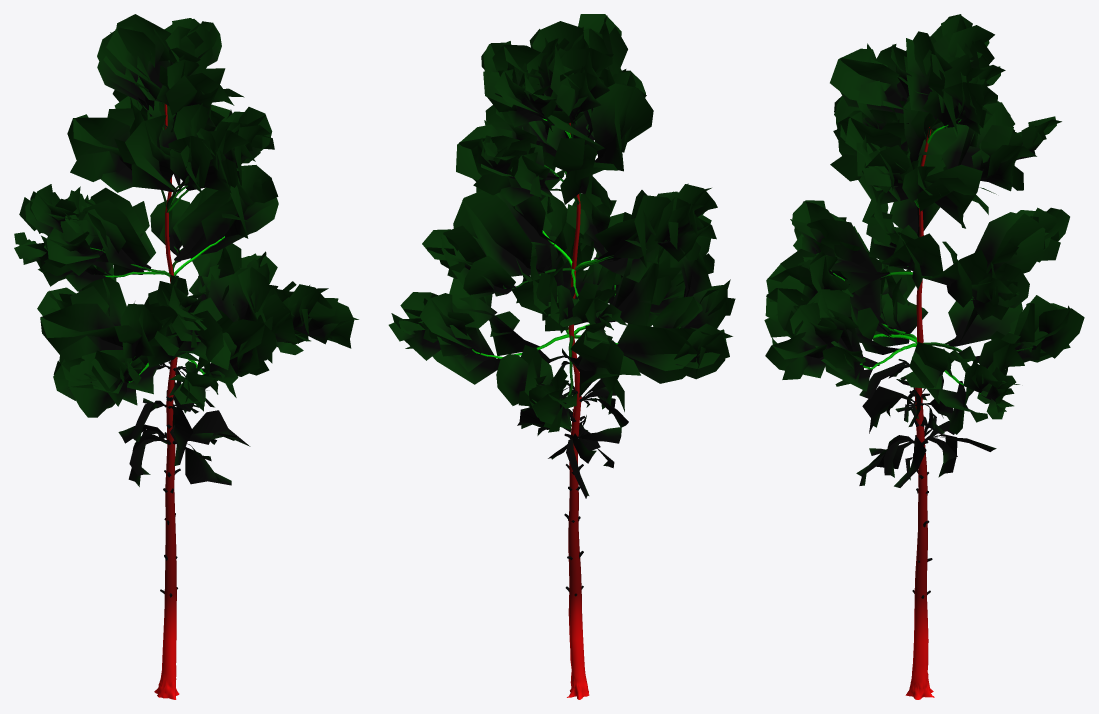
File: TTFE_Pine Mid 2.fbx
3 views of the same model, side by side, from view 1: azimuth 30°, elevation 25°; view 2: azimuth 150°, elevation 25°; view 3: azimuth 270°, elevation 25° (orthographic).
Parts seen in each view (by area): view 1: TTFE_Pine Mid 2; view 2: TTFE_Pine Mid 2; view 3: TTFE_Pine Mid 2.
Part boxes in pixels (bbox=[...]): TTFE_Pine Mid 2: bbox=[14, 14, 358, 699]; TTFE_Pine Mid 2: bbox=[388, 14, 735, 699]; TTFE_Pine Mid 2: bbox=[764, 14, 1084, 699].
Size of the model in its own units: 4.1 by 9.14 by 3.97.
